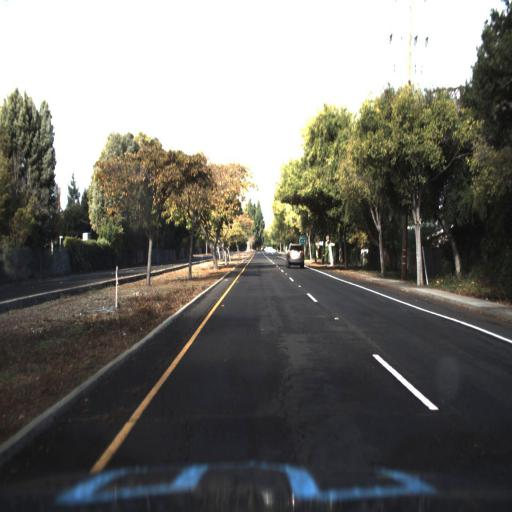car: (282, 240, 307, 270)
